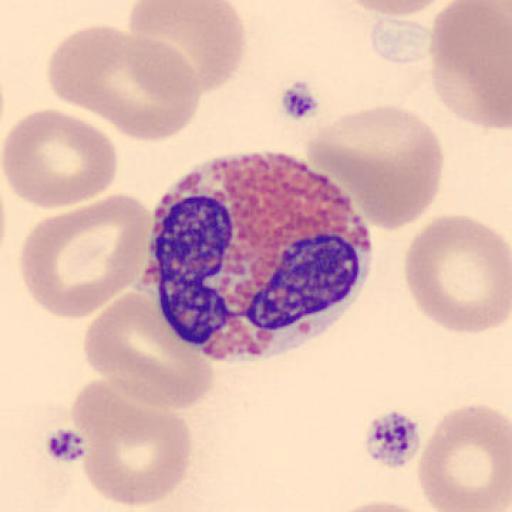Platelet: (361, 408, 424, 472)
RBC: (46, 24, 200, 142), (18, 191, 156, 320), (306, 103, 444, 231), (82, 291, 215, 411), (75, 377, 194, 509), (403, 214, 511, 336), (0, 107, 118, 210), (126, 1, 248, 95), (426, 0, 512, 131), (415, 402, 512, 512), (338, 0, 461, 17), (323, 498, 439, 512)
WBC: (145, 155, 374, 361)
